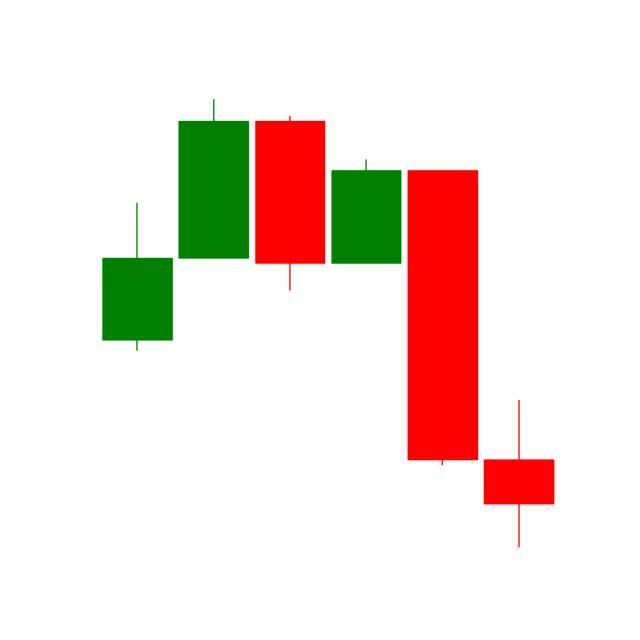Marubozu: (404, 167, 482, 469)
